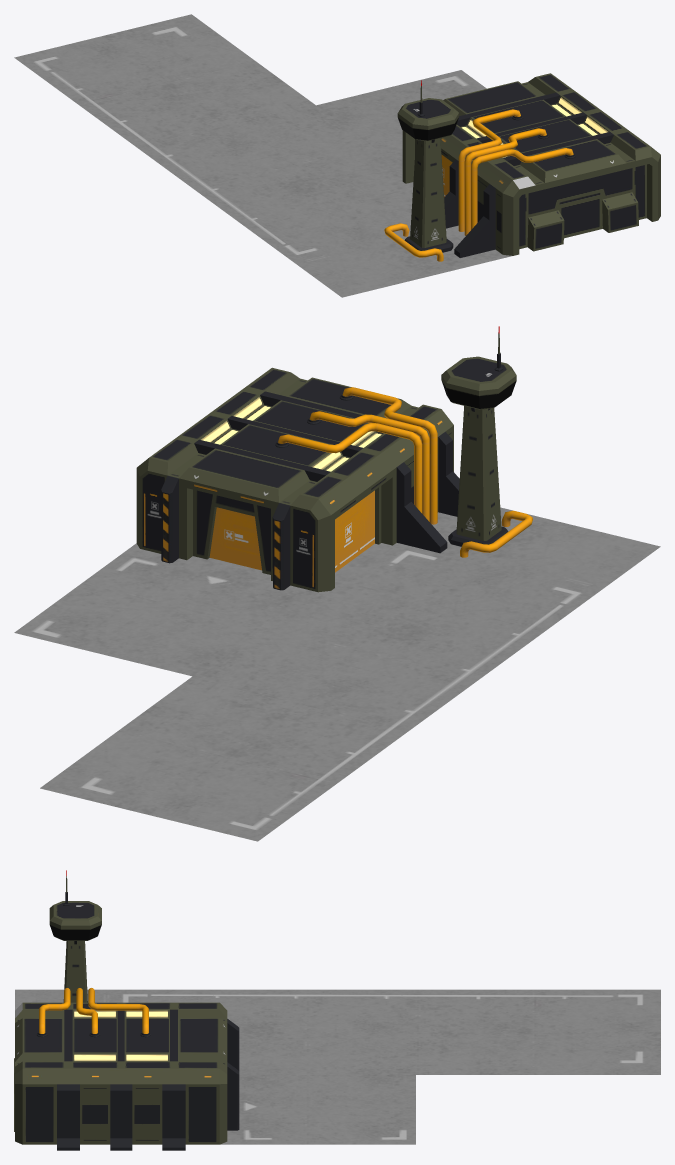
The model's file is airport_building2.glb.
3 views of the same model, one above another, from view 1: azimuth 30°, elevation 25°; view 2: azimuth 150°, elevation 25°; view 3: azimuth 270°, elevation 25° (orthographic). The views are drawn at different scales.
Visible parts, largest first — view 1: hangar; view 2: hangar, front_door, side_door; view 3: hangar.
Part boxes in pixels (box(x1,y1,x2,y2)): hangar: box(14, 14, 660, 297); hangar: box(14, 326, 660, 841); front_door: box(209, 507, 261, 570); side_door: box(335, 490, 374, 572); hangar: box(14, 870, 660, 1150).
Bounding box in the file's own units: 2246 × 1107 × 3814.
3 materials, 3 textured.
